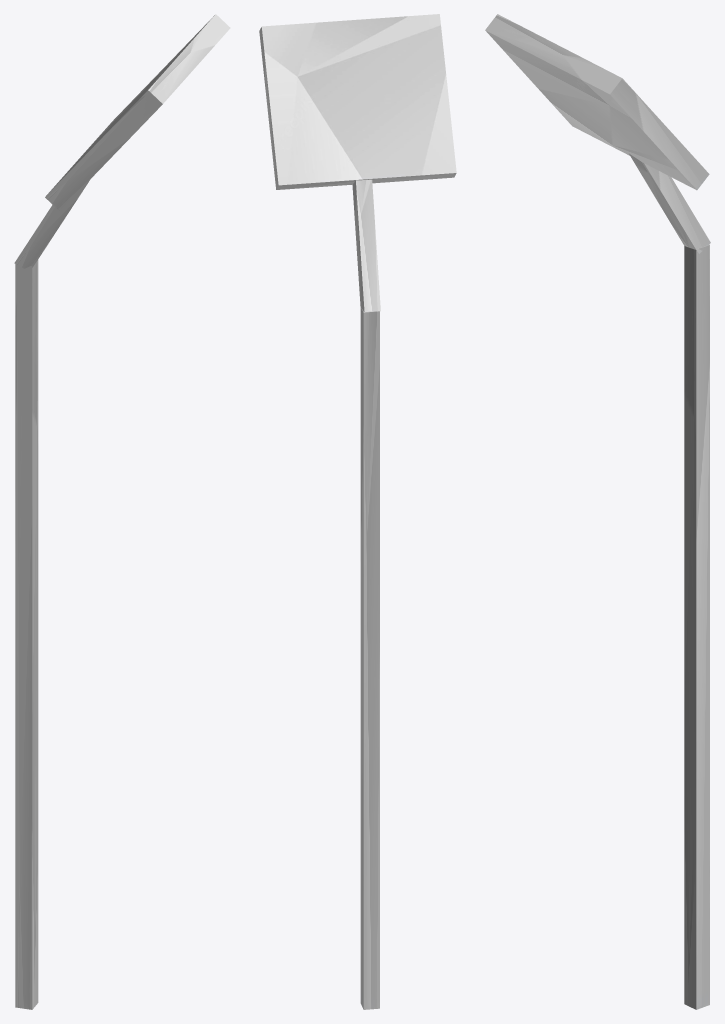
Rendered from Faro3.obj.
3 views of the same model, side by side, from view 1: azimuth 30°, elevation 25°; view 2: azimuth 150°, elevation 25°; view 3: azimuth 270°, elevation 25° (orthographic). The views are drawn at different scales.
Parts seen in each view (by area): view 1: pasted__pCube20 group136, group136 pasted__pCube21, group136 pasted__pasted__pCube20 pasted__group134; view 2: group136 pasted__pCube21, pasted__pCube20 group136, group136 pasted__pasted__pCube20 pasted__group134; view 3: pasted__pCube20 group136, group136 pasted__pCube21, group136 pasted__pasted__pCube20 pasted__group134.
Part boxes in pixels (x1=…): pasted__pCube20 group136: x1=15, y1=259, x2=38, y2=1009; group136 pasted__pCube21: x1=45, y1=14, x2=230, y2=210; group136 pasted__pasted__pCube20 pasted__group134: x1=14, y1=180, x2=89, y2=268; group136 pasted__pCube21: x1=259, y1=14, x2=456, y2=189; pasted__pCube20 group136: x1=360, y1=307, x2=379, y2=1009; group136 pasted__pasted__pCube20 pasted__group134: x1=352, y1=179, x2=380, y2=311; pasted__pCube20 group136: x1=684, y1=244, x2=709, y2=1009; group136 pasted__pCube21: x1=485, y1=14, x2=709, y2=190; group136 pasted__pasted__pCube20 pasted__group134: x1=629, y1=153, x2=710, y2=254.
Bounding box in the file's own units: 2.74 × 12.95 × 2.64.
1 material, 1 textured.
